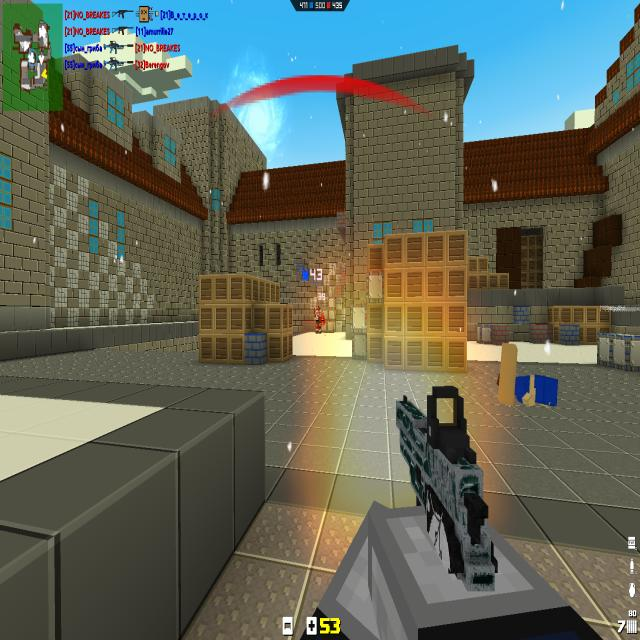player: (314, 307, 326, 334)
